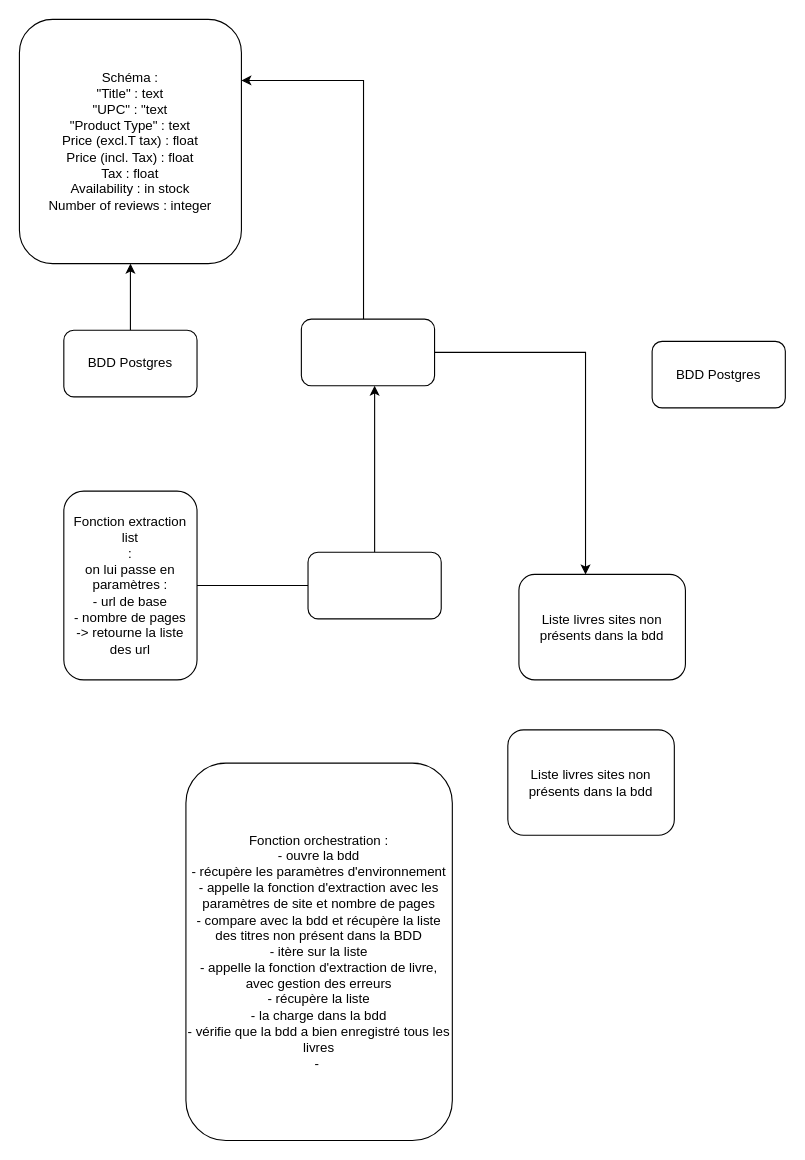
The diagram is 805 pixels wide and 1160 high, and some of its shapes have lost their labels. Here are the shapes that lost their labels. From the top down, the centre of each, then its label:
At (x=367, y=352): "Comparaison avec BDD".
At (x=374, y=585): "Liste livres site".
